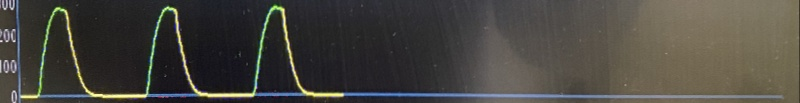normal_volume: (16, 2, 353, 103)
